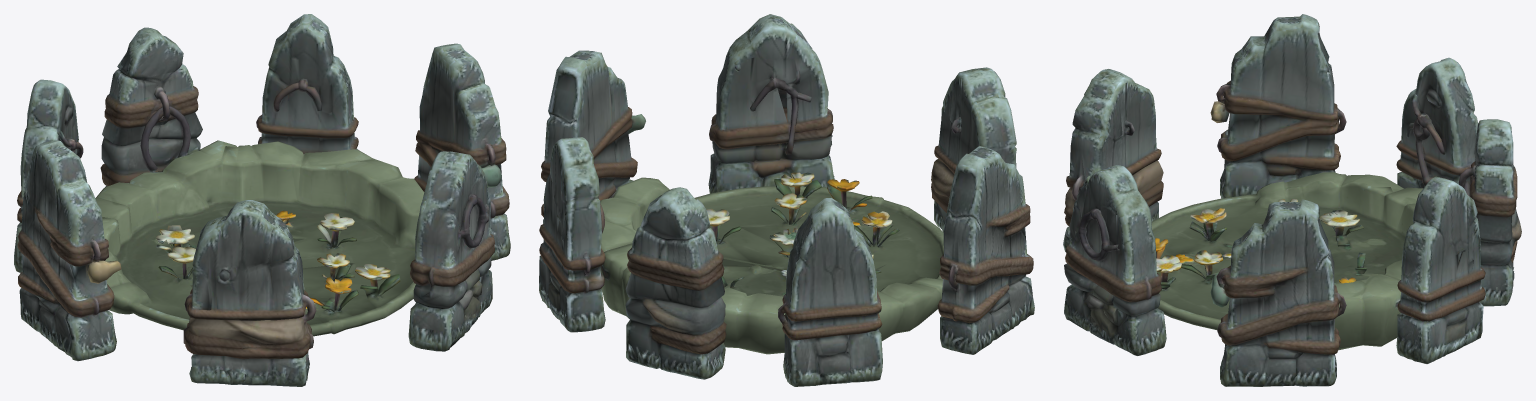
The model's file is lm_wellhead_thaw.glb.
3 views of the same model, side by side, from view 1: azimuth 30°, elevation 25°; view 2: azimuth 150°, elevation 25°; view 3: azimuth 270°, elevation 25° (orthographic). The views are drawn at different scales.
Visible parts, largest first — view 1: lm_wellhead-col; view 2: lm_wellhead-col; view 3: lm_wellhead-col.
Boxes of the visible parts, bbox=[...] form: lm_wellhead-col: bbox=[14, 14, 510, 386]; lm_wellhead-col: bbox=[539, 14, 1034, 386]; lm_wellhead-col: bbox=[1063, 14, 1521, 386].
Bounding box in the file's own units: 8 × 3.18 × 7.5.
Materials: 1 (1 with a texture image).
